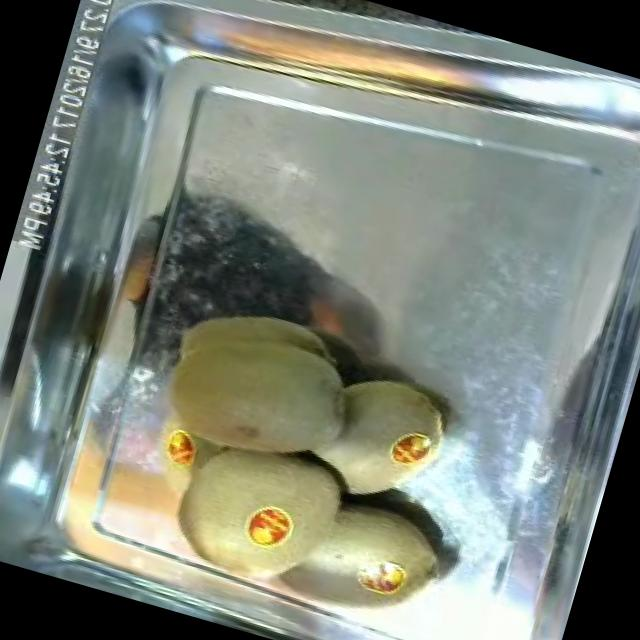Fruit: (135, 280, 375, 499), (299, 352, 466, 528), (231, 491, 305, 565)
